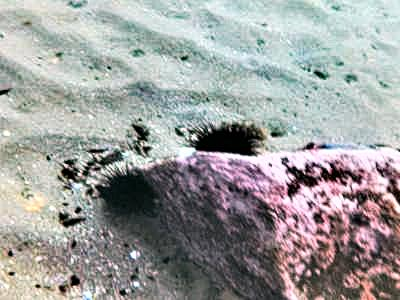urchin: (97, 164, 157, 216), (189, 123, 256, 157)
